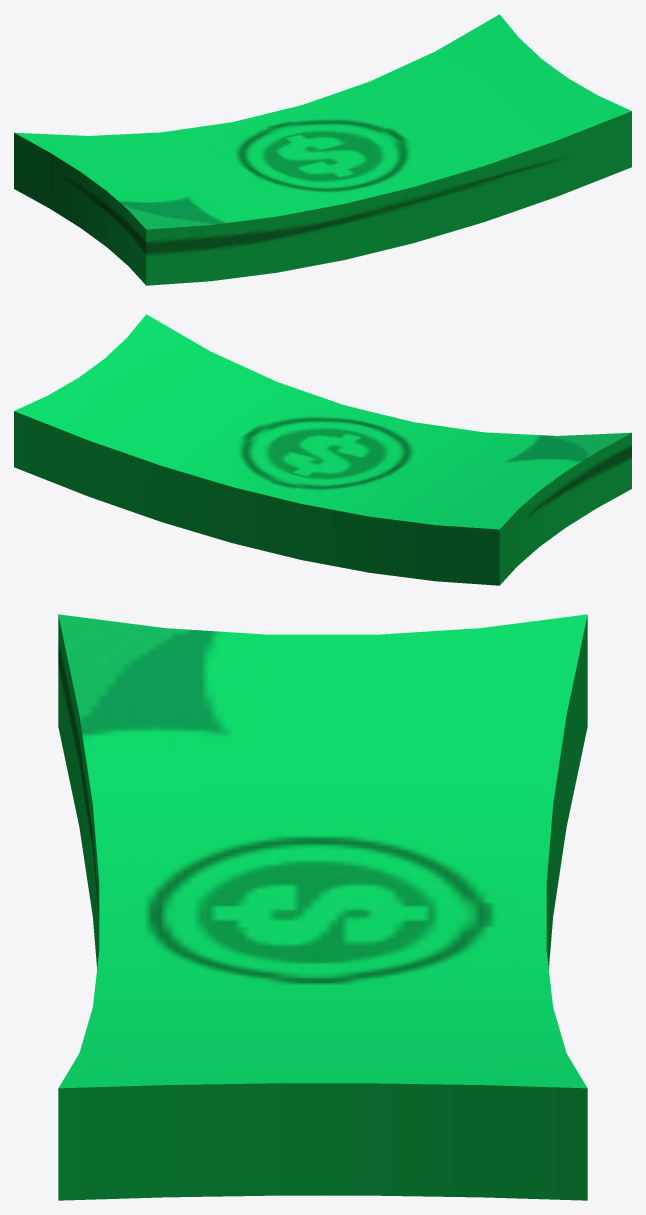
File: Cash1.fbx
3 views of the same model, one above another, from view 1: azimuth 30°, elevation 25°; view 2: azimuth 150°, elevation 25°; view 3: azimuth 270°, elevation 25° (orthographic). The views are drawn at different scales.
Parts seen in each view (by area): view 1: Cash; view 2: Cash; view 3: Cash.
Boxes of the visible parts, x1,y1,x2,y2 form: Cash: (14, 14, 631, 285); Cash: (14, 314, 631, 585); Cash: (58, 614, 587, 1200).
Size of the model in its own units: 40.88 by 7.15 by 19.29.
Materials: 1 (1 with a texture image).
